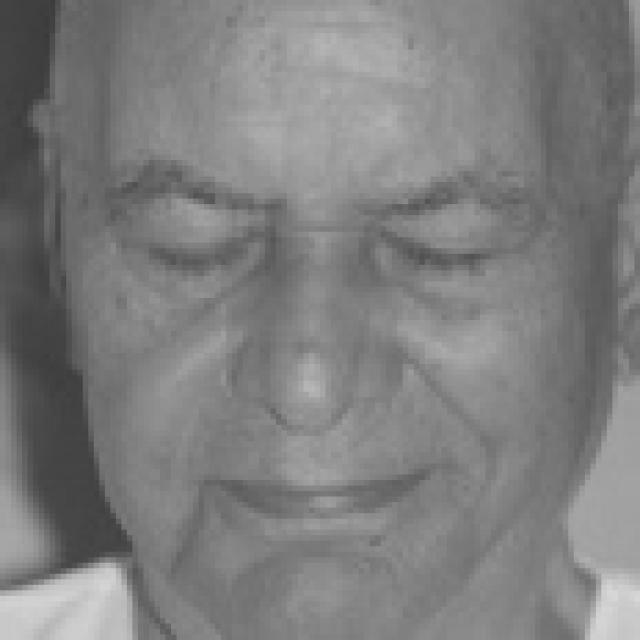real: (68, 16, 570, 617), (122, 191, 559, 297)
